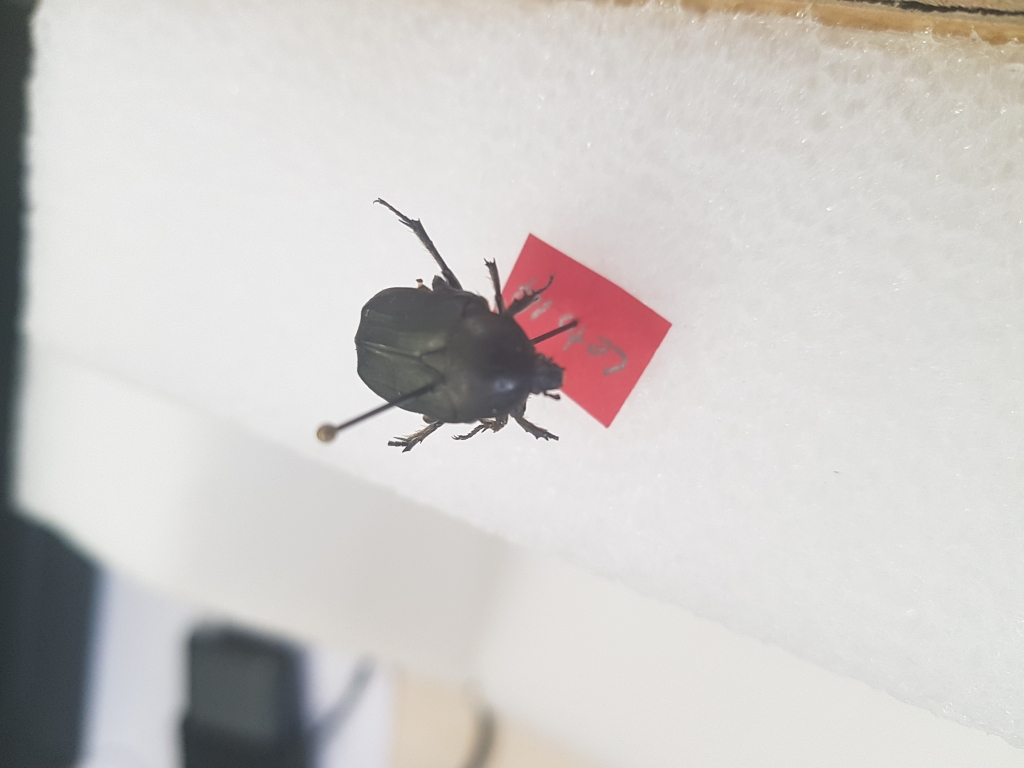Protaetia_vidua: (346, 168, 624, 460)
